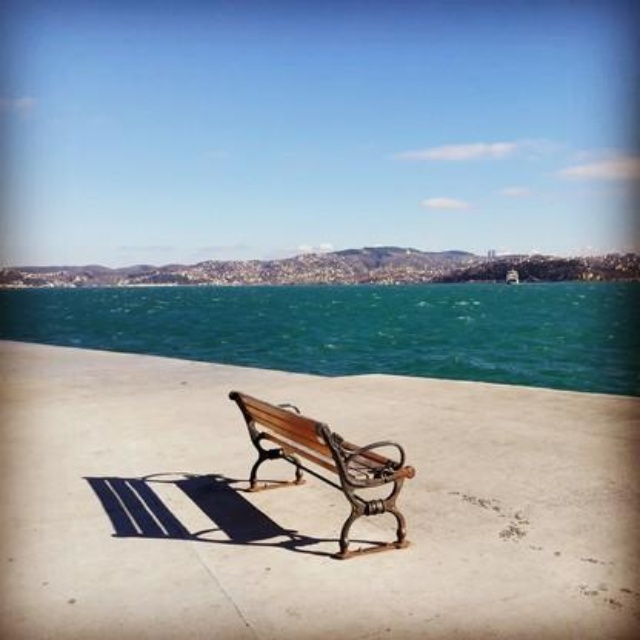obstacle: (222, 385, 425, 555)
